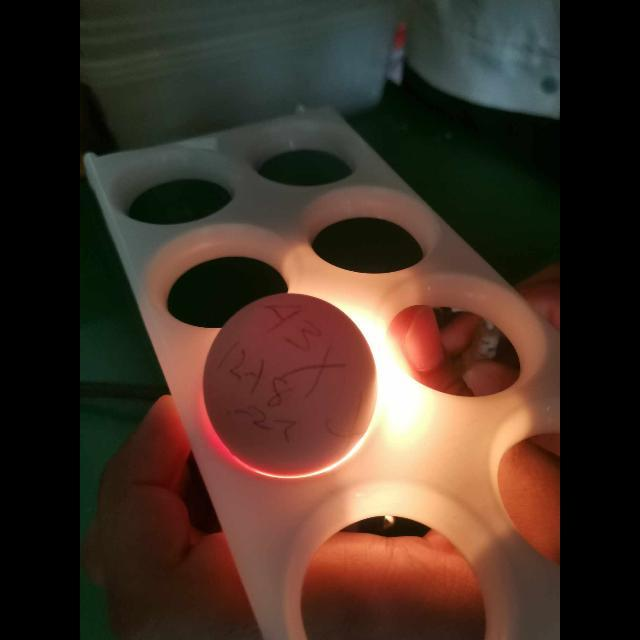Fertile: (202, 291, 378, 474)
